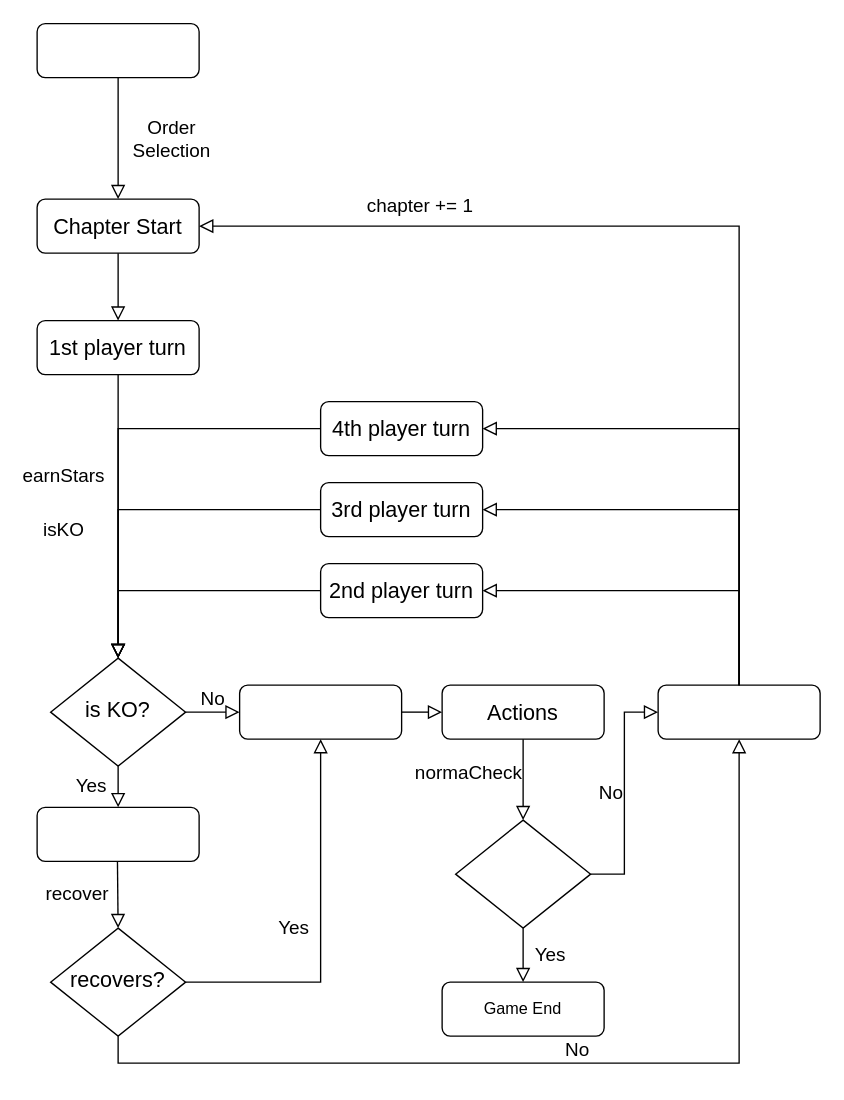
The diagram is 844 pixels wide and 1100 high, and some of its shapes have lost their labels. Here are the shapes that lost their labels. From the top down, the centre of each, then its label:
At pixel 117 50: "Game Start".
At pixel 320 711: "Move Phase".
At pixel 738 711: "End Turn".
At pixel 117 833: "Recovery".
At pixel 522 873: "wins?".
